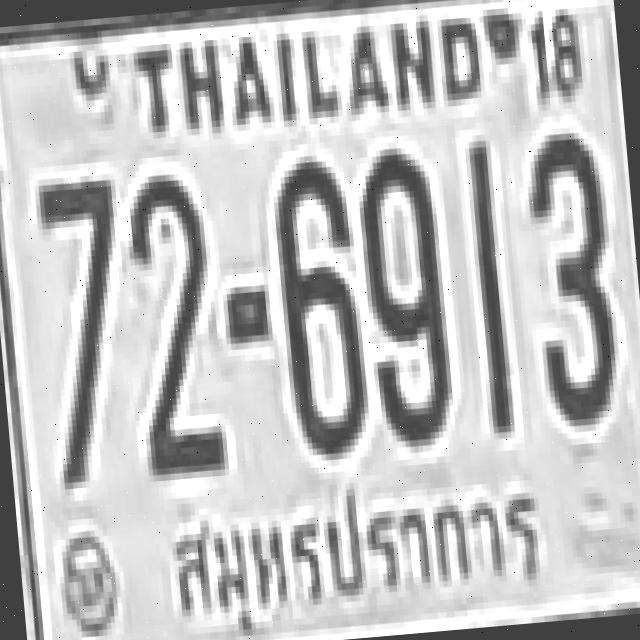1: (462, 137, 512, 424)
2: (122, 169, 218, 454)
3: (518, 124, 620, 422)
6: (266, 152, 368, 456)
7: (33, 173, 131, 478), (36, 170, 128, 412), (36, 174, 126, 384)
9: (354, 139, 452, 443)
SamutPrakan: (155, 463, 554, 640)
